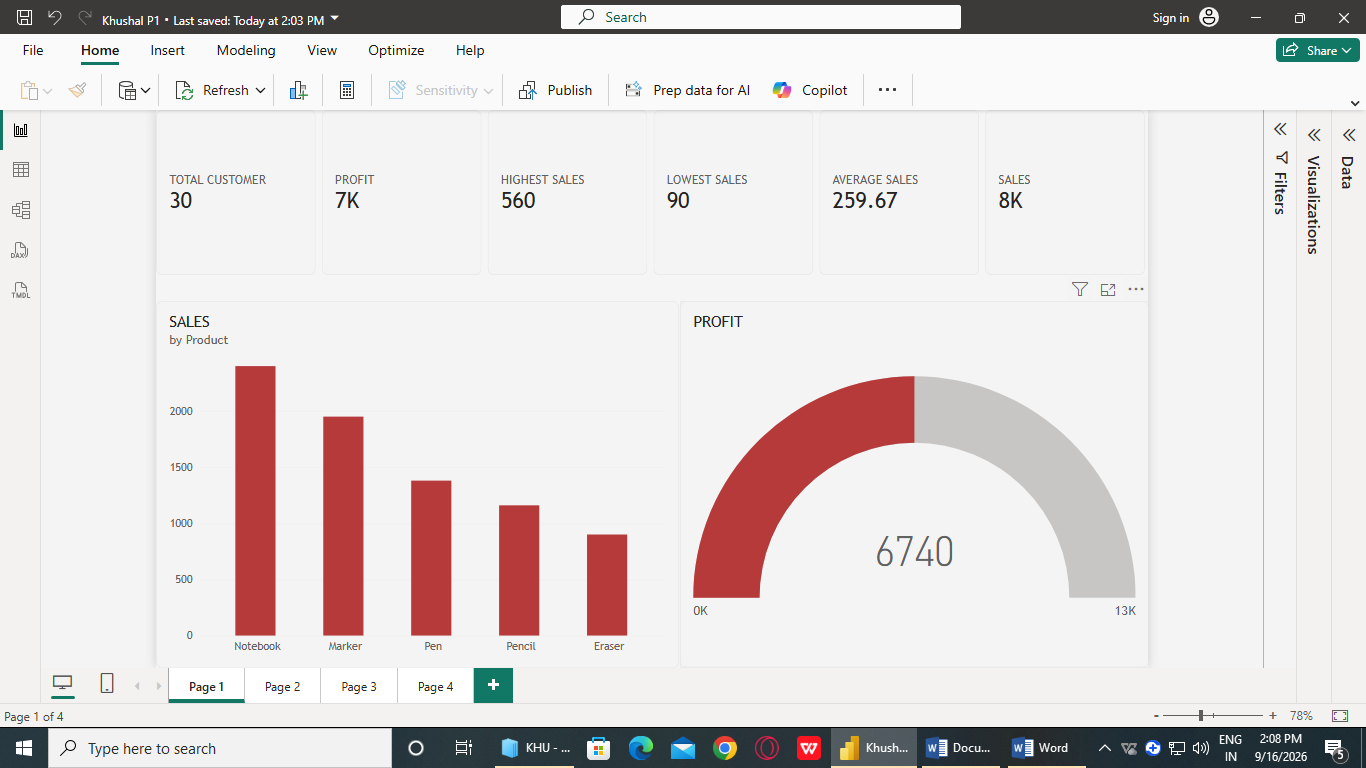

Layout of this report page (visuals, bound fields, positions):
{"tool":"powerbi","page":{"name":"Page 1","canvas":[1280,720],"ordinal":0},"visuals":[{"type":"cardVisual","fields":{"Data":["SALES.TOTAL CUSTOMER","SALES.PROFIT","SALES.HIGHEST SALES","SALES.LOWEST SALES","SALES.AVERAGE SALES","SALES.SALES"]},"box":[0,0,1280,213.3],"z":0},{"type":"columnChart","fields":{"Y":["SALES.SALES"],"Category":["SALES.Product"]},"box":[0,246.9,675.3,473.7],"z":1000},{"type":"gauge","fields":{"Y":["SALES.PROFIT"]},"box":[675.9,246.6,605,473],"z":2000}]}

Visuals, with their boxes on the page's 1280x720 design canvas (x1, y1, x2, y2). These are canvas units, not pixel positions in the 1366x768 screenshot, which may show the page scaled, cropped or inside an application window:
cardVisual - SALES.TOTAL CUSTOMER x SALES.PROFIT: 0 0 1280 213
columnChart - SALES.SALES x SALES.Product: 0 247 675 721
gauge - SALES.PROFIT: 676 247 1281 720
